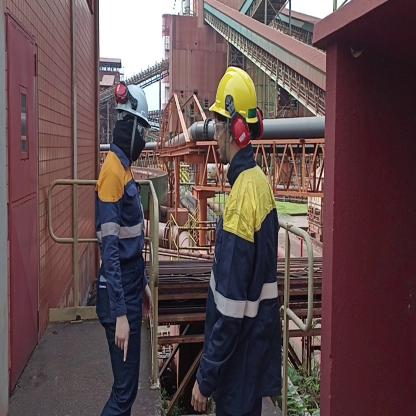Balaclava: (117, 112, 143, 157)
Capacete: (210, 65, 259, 117), (115, 81, 150, 120)
Operacional: (96, 150, 150, 315)
